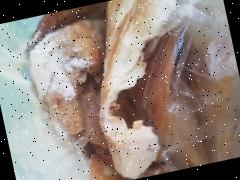organic: (29, 2, 180, 174)
